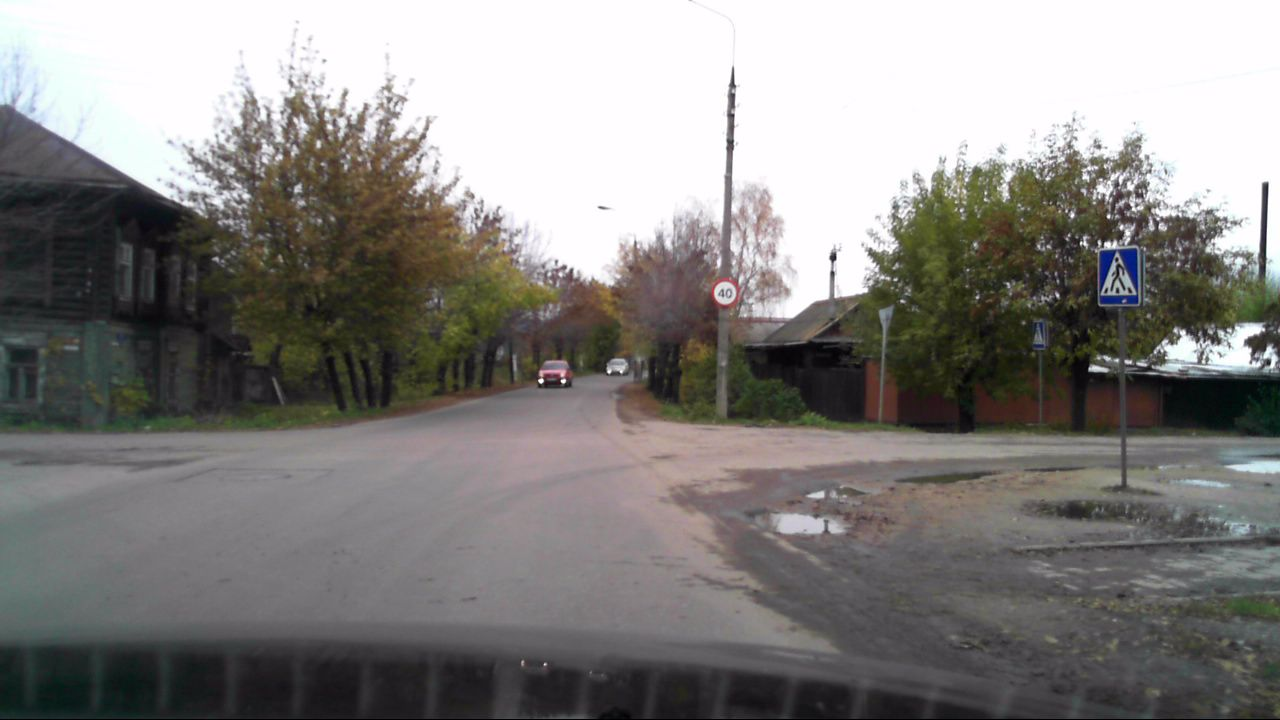speed_warning_40: (709, 277, 740, 308)
